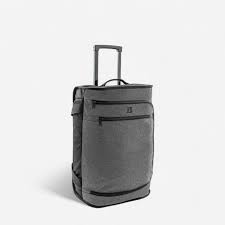suitcase: (69, 43, 155, 208)
